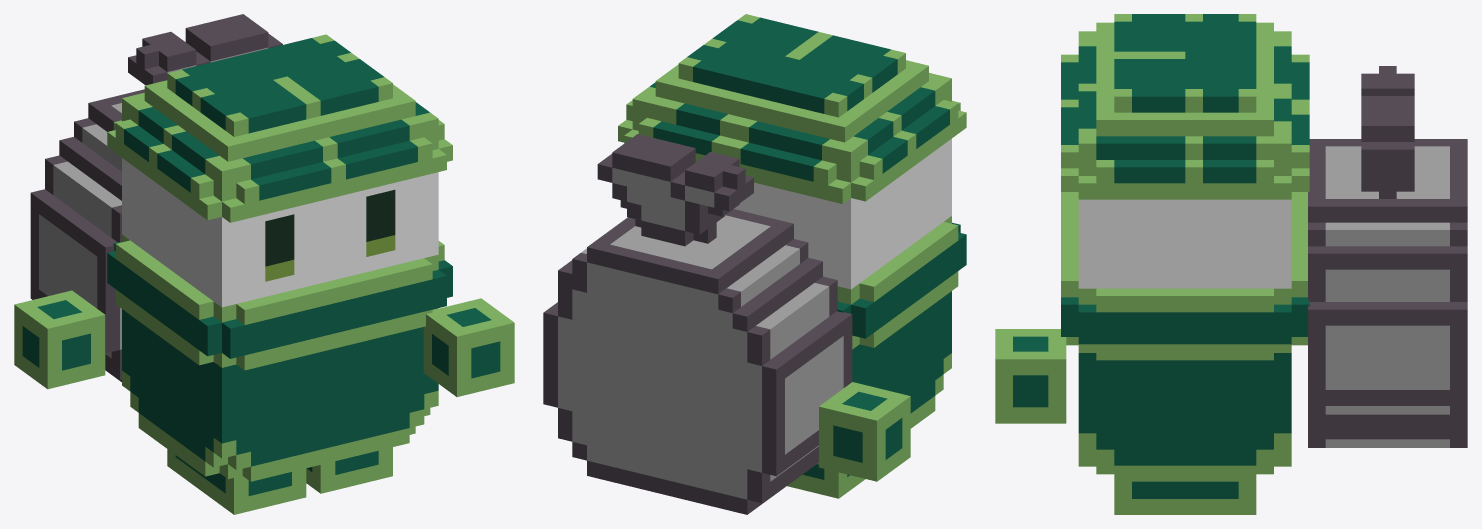
Rendered from p2TrashHoldGrab.gltf.
3 views of the same model, side by side, from view 1: azimuth 30°, elevation 25°; view 2: azimuth 150°, elevation 25°; view 3: azimuth 270°, elevation 25° (orthographic). The views are drawn at different scales.
Visible parts, largest first — view 1: Object_0.001, Object_0.002, Object_0.003, Object_0; view 2: Object_0.002, Object_0.001, Object_0.003; view 3: Object_0.001, Object_0.002, Object_0.
Boxes of the visible parts, bbox=[...] form: Object_0.001: bbox=[107, 34, 452, 514]; Object_0.002: bbox=[30, 14, 282, 381]; Object_0.003: bbox=[14, 290, 105, 389]; Object_0: bbox=[423, 298, 514, 396]; Object_0.002: bbox=[543, 134, 852, 514]; Object_0.001: bbox=[618, 14, 966, 498]; Object_0.003: bbox=[819, 382, 910, 481]; Object_0.001: bbox=[1061, 14, 1309, 514]; Object_0.002: bbox=[1308, 66, 1467, 447]; Object_0: bbox=[995, 329, 1066, 423].
Size of the model in its own units: 2.22 by 2.6 by 2.66.
Materials: 4 (4 with a texture image).
